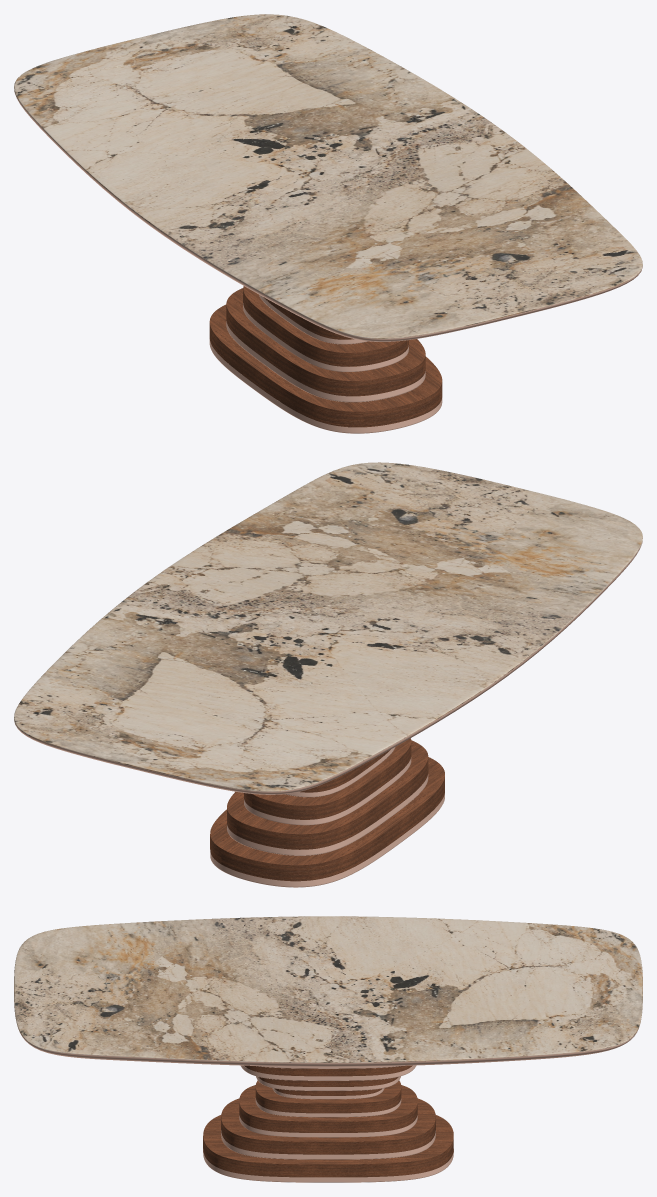
Rendered from ST_HILKER_DT_MOZART.glb.
3 views of the same model, one above another, from view 1: azimuth 30°, elevation 25°; view 2: azimuth 150°, elevation 25°; view 3: azimuth 270°, elevation 25° (orthographic). The views are drawn at different scales.
Parts seen in each view (by area): view 1: DT MOZART; view 2: DT MOZART; view 3: DT MOZART.
Boxes of the visible parts, box(x1,y1,x2,y2) form: DT MOZART: box(14, 14, 642, 433); DT MOZART: box(14, 462, 642, 887); DT MOZART: box(14, 916, 642, 1182).
Size of the model in its own units: 1.4 by 0.7364 by 2.54.
4 materials, 3 textured.
